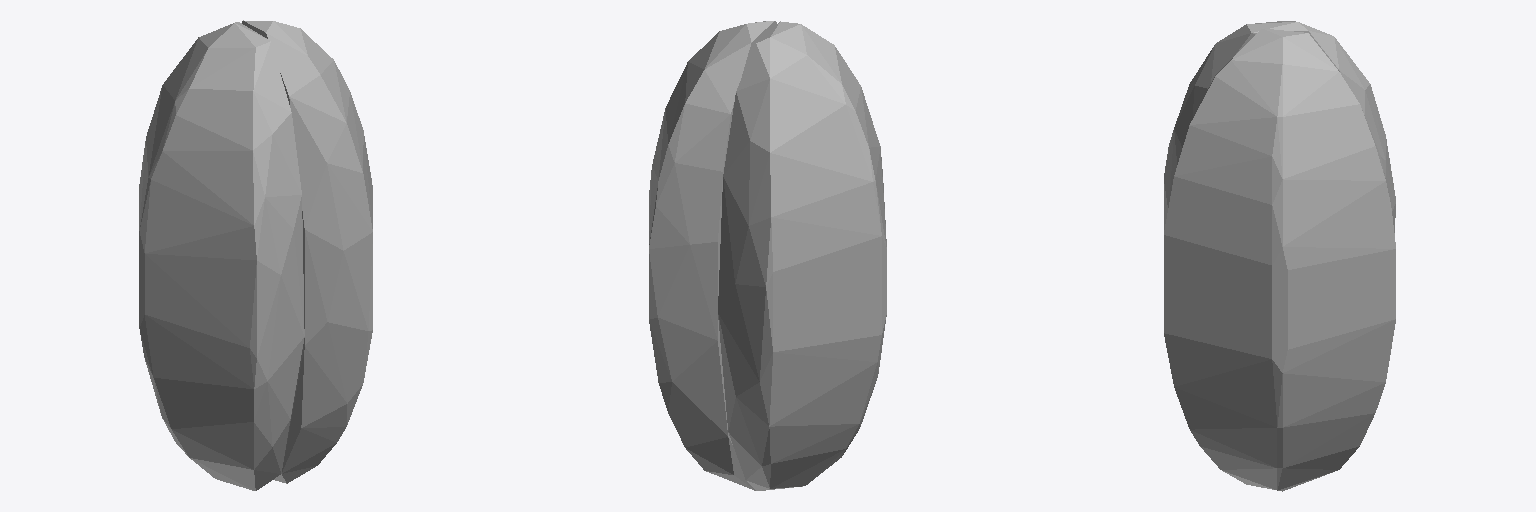
robot.urdf — root:
<robot name="root">
  <link name="link_6f8062392721742962a30a51f7713338_convex_piece_0">
    <inertial>
      <origin rpy="0 0 0" xyz="0 0 0"/>
      <mass value="3.10E-05"/>
      <inertia ixx="1.45E-08" ixy="6.63E-12" ixz="5.38E-13" iyy="1.50E-08" iyz="-8.07E-12" izz="5.49E-09"/>
    </inertial>
    <visual>
      <origin rpy="0 0 0" xyz="0 0 0"/>
      <geometry>
        <mesh filename="6f8062392721742962a30a51f7713338_convex_piece_0.obj" scale="1.0000E+00"/>
      </geometry>
      <material name="">
        <color rgba="7.50E-01 7.50E-01 7.50E-01 1"/>
      </material>
    </visual>
    <collision>
      <origin rpy="0 0 0" xyz="0 0 0"/>
      <geometry>
        <mesh filename="6f8062392721742962a30a51f7713338_convex_piece_0.obj" scale="1.0000E+00"/>
      </geometry>
    </collision>
  </link>
  <link name="link_6f8062392721742962a30a51f7713338_convex_piece_1">
    <inertial>
      <origin rpy="0 0 0" xyz="0 0 0"/>
      <mass value="3.03E-05"/>
      <inertia ixx="1.41E-08" ixy="1.29E-11" ixz="8.54E-13" iyy="1.46E-08" iyz="9.56E-12" izz="5.49E-09"/>
    </inertial>
    <visual>
      <origin rpy="0 0 0" xyz="0 0 0"/>
      <geometry>
        <mesh filename="6f8062392721742962a30a51f7713338_convex_piece_1.obj" scale="1.0000E+00"/>
      </geometry>
      <material name="">
        <color rgba="7.50E-01 7.50E-01 7.50E-01 1"/>
      </material>
    </visual>
    <collision>
      <origin rpy="0 0 0" xyz="0 0 0"/>
      <geometry>
        <mesh filename="6f8062392721742962a30a51f7713338_convex_piece_1.obj" scale="1.0000E+00"/>
      </geometry>
    </collision>
  </link>
  <joint name="link_6f8062392721742962a30a51f7713338_convex_piece_1_joint" type="fixed">
    <origin rpy="0 0 0" xyz="0 0 0"/>
    <parent link="link_6f8062392721742962a30a51f7713338_convex_piece_0"/>
    <child link="link_6f8062392721742962a30a51f7713338_convex_piece_1"/>
  </joint>
</robot>

--- Facts derived from the render (not from the file) ---
3 views of the same robot in one strip: view 1: azimuth 30°, elevation 25°; view 2: azimuth 150°, elevation 25°; view 3: azimuth 270°, elevation 25° (orthographic).
Robot: root — 2 links, 1 joints (1 fixed); root link link_6f8062392721742962a30a51f7713338_convex_piece_0; default pose: every joint at zero.
Links seen in each view (by area): view 1: link_6f8062392721742962a30a51f7713338_convex_piece_0, link_6f8062392721742962a30a51f7713338_convex_piece_1; view 2: link_6f8062392721742962a30a51f7713338_convex_piece_0, link_6f8062392721742962a30a51f7713338_convex_piece_1; view 3: link_6f8062392721742962a30a51f7713338_convex_piece_1, link_6f8062392721742962a30a51f7713338_convex_piece_0.
Boxes of the visible links, x1,y1,x2,y2 form: link_6f8062392721742962a30a51f7713338_convex_piece_0: (139,22,304,490); link_6f8062392721742962a30a51f7713338_convex_piece_1: (242,20,372,483); link_6f8062392721742962a30a51f7713338_convex_piece_0: (718,21,886,490); link_6f8062392721742962a30a51f7713338_convex_piece_1: (649,21,776,490); link_6f8062392721742962a30a51f7713338_convex_piece_1: (1164,28,1395,491); link_6f8062392721742962a30a51f7713338_convex_piece_0: (1164,21,1395,232).
Bounding box of the posed robot: 0.0455 × 0.0402 × 0.0866 m (x, y, z).
Meshes: 2 distinct files referenced, 2 mesh visuals loaded (2 OBJ).